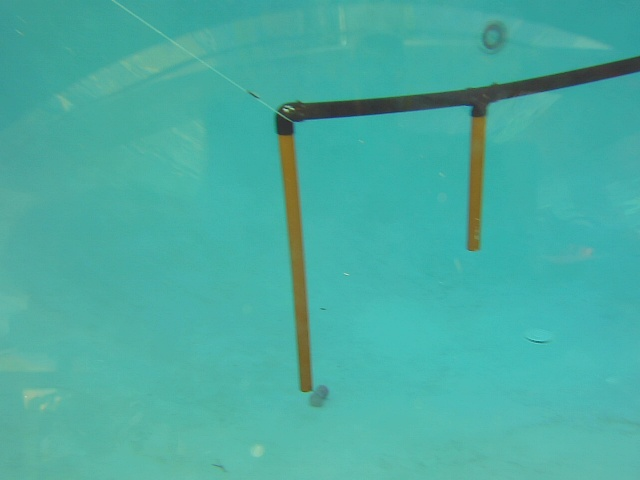Gate: (274, 131, 314, 394), (462, 109, 489, 255)
